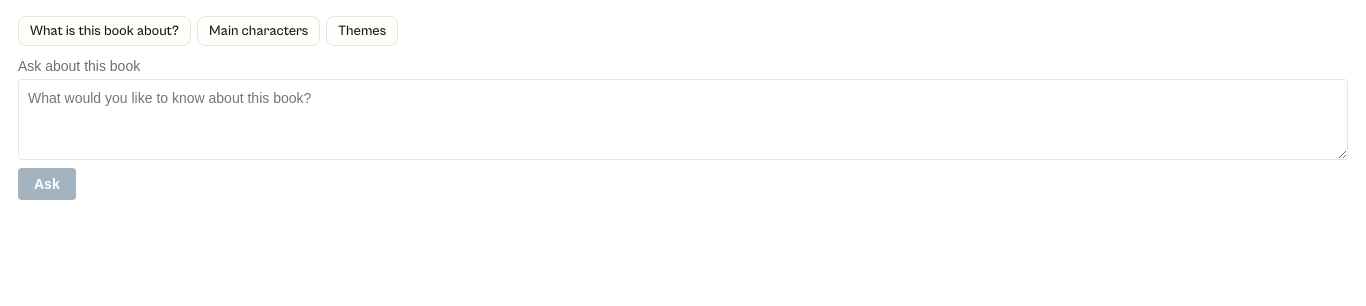
Test: AiPanel › clears the response when the Clear button is clicked
Type "What does it mean?" into the text box named "your question" at [683, 120], box [18, 79, 1348, 160]
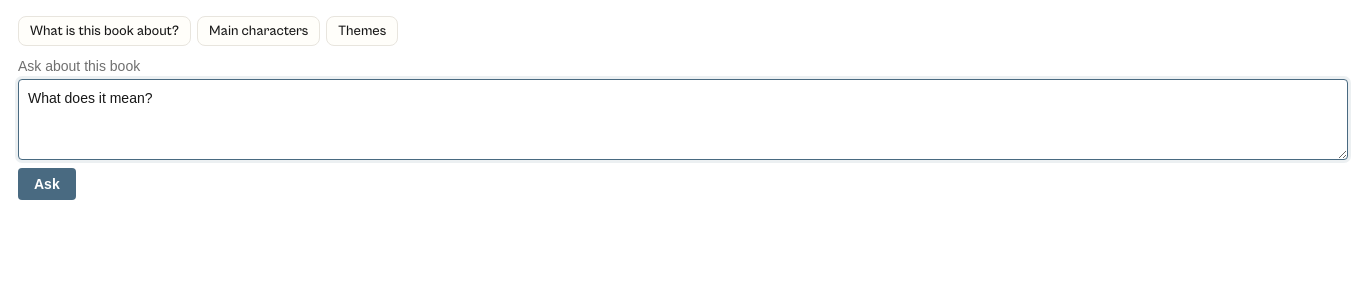
Click the button "Ask" at [47, 184], box [18, 168, 76, 200]
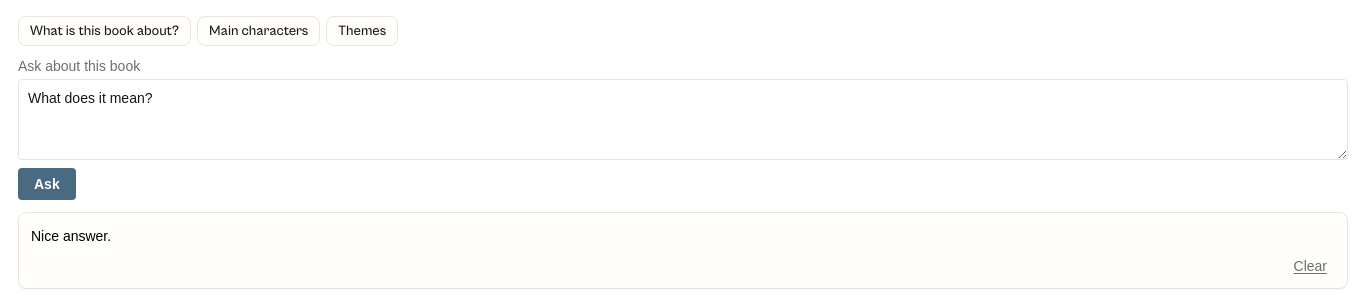
Check: the text "Nice answer." is shown, box [31, 228, 111, 244]
Click the button named "clear response" at [1310, 266], box [1286, 256, 1335, 276]
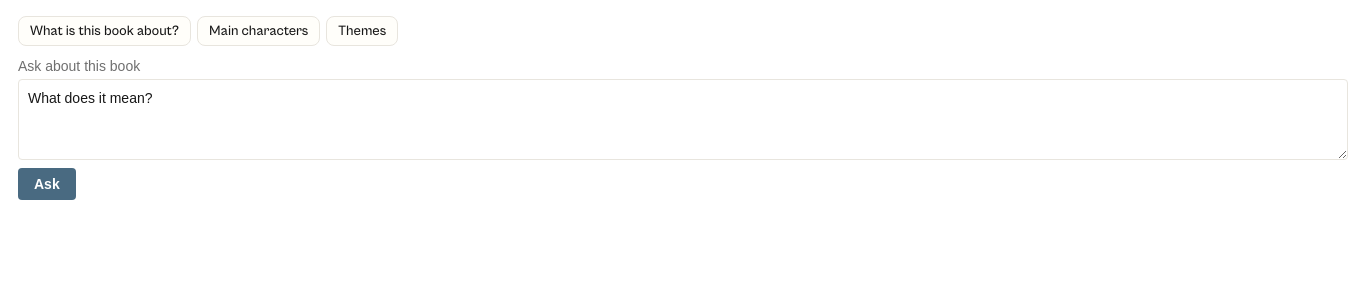
Check: the text "Nice answer." is gone
